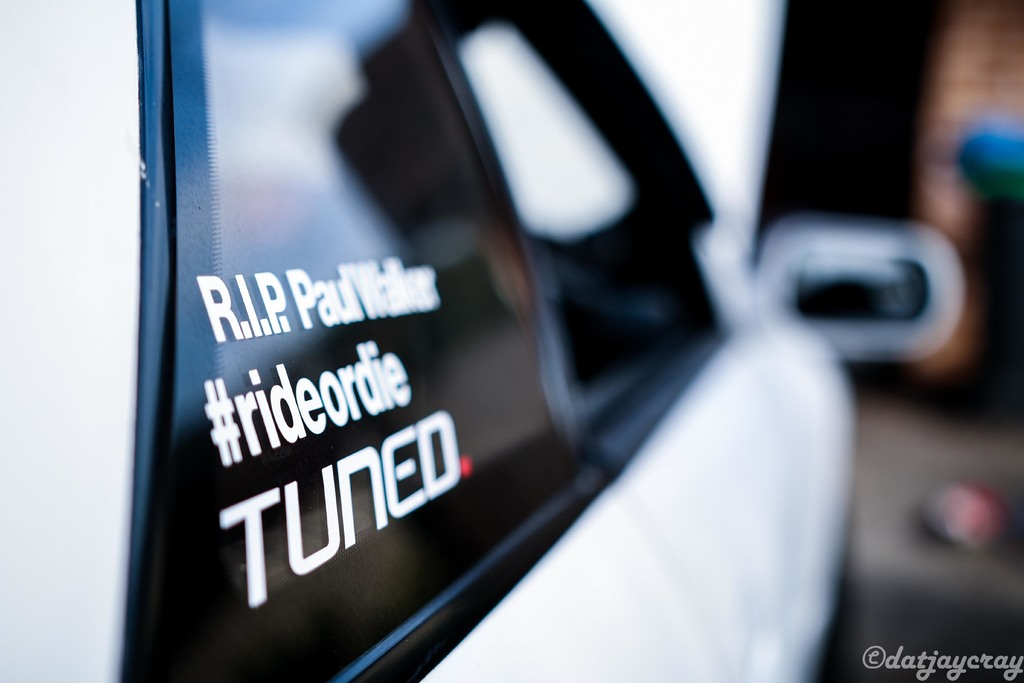Car: (0, 0, 960, 682)
